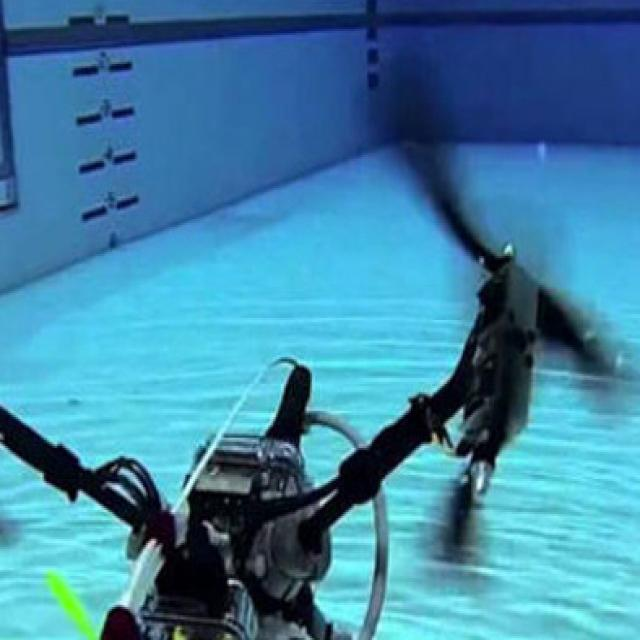drone: (0, 136, 640, 640)
